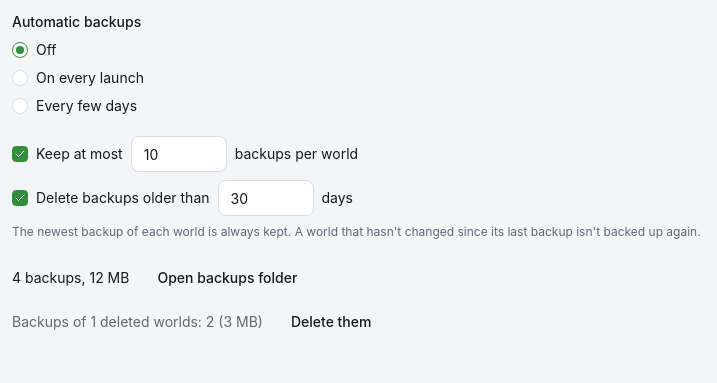
Test: BackupSettings › shows the totals and deletes backups of deleted worlds
This screenshot has width=717, height=383.
Expected: the text "4 backups, 12 MB" is shown, [12,268,129,288]
Expected: the text "Backups of 1 deleted worlds: 2 (3 MB)" is shown, [12,312,263,332]
Click the button "Delete them".
click(331, 322)  # box [275,304,387,340]
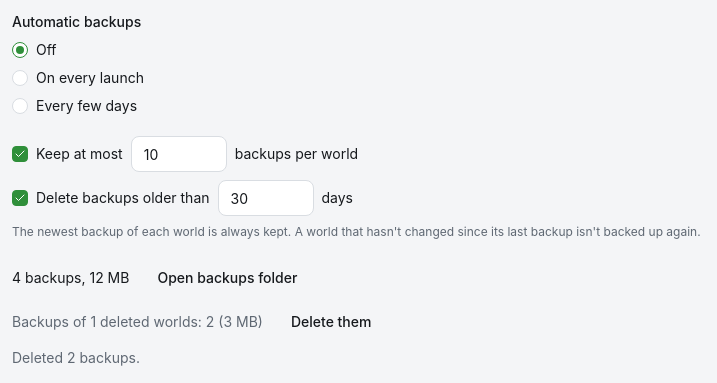
Expected: the text "Deleted 2 backups." is shown, [12,349,140,366]
